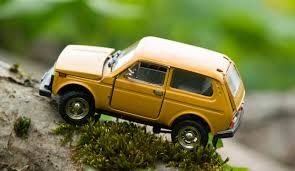ARABA: (39, 35, 245, 154)
